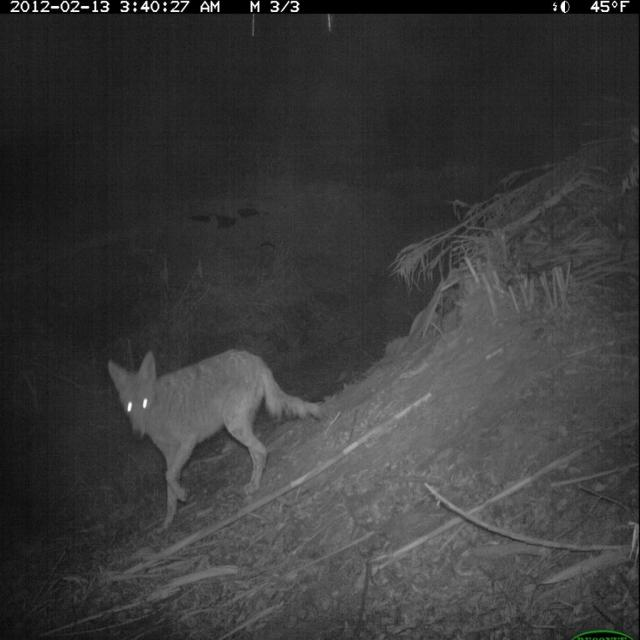coyote: (102, 342, 333, 546)
